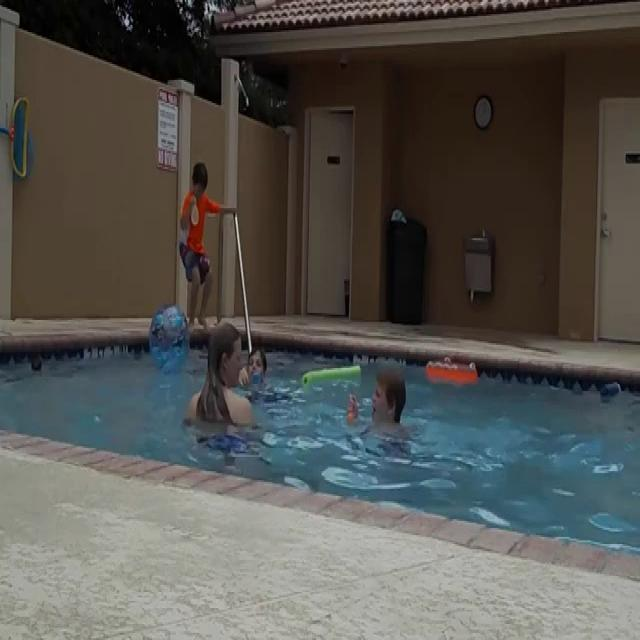adult: (188, 322, 254, 454)
child: (180, 156, 218, 325), (353, 368, 408, 462), (240, 348, 266, 390)
